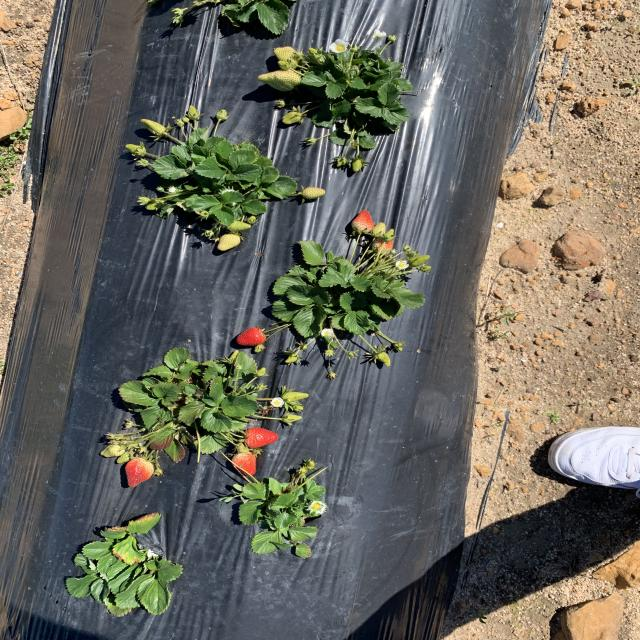unripe: (124, 456, 154, 486), (244, 427, 282, 447), (233, 451, 260, 479), (235, 327, 268, 346), (352, 210, 374, 234)
